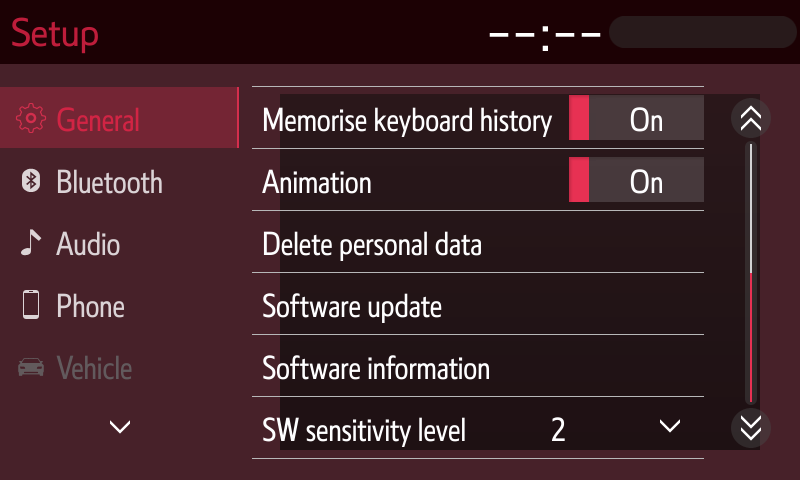touchPart: (249, 267, 706, 343), (250, 79, 710, 154), (245, 328, 707, 402), (247, 394, 710, 467), (249, 142, 710, 215), (250, 207, 707, 279), (15, 163, 180, 208), (10, 278, 158, 327), (19, 228, 144, 264), (6, 13, 107, 51), (723, 407, 781, 451), (734, 94, 775, 138), (93, 410, 147, 441)
untouchPart: (4, 81, 243, 154), (477, 7, 797, 55), (5, 351, 159, 384)
